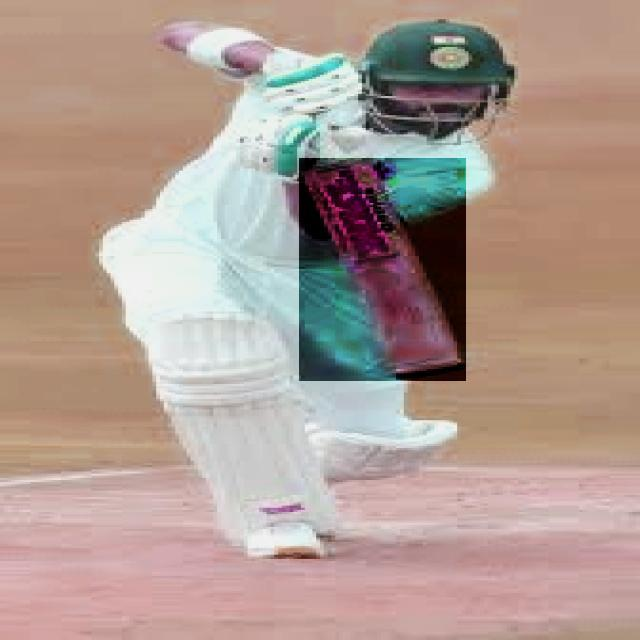bat: (304, 156, 468, 379)
toe: (400, 360, 459, 377)
